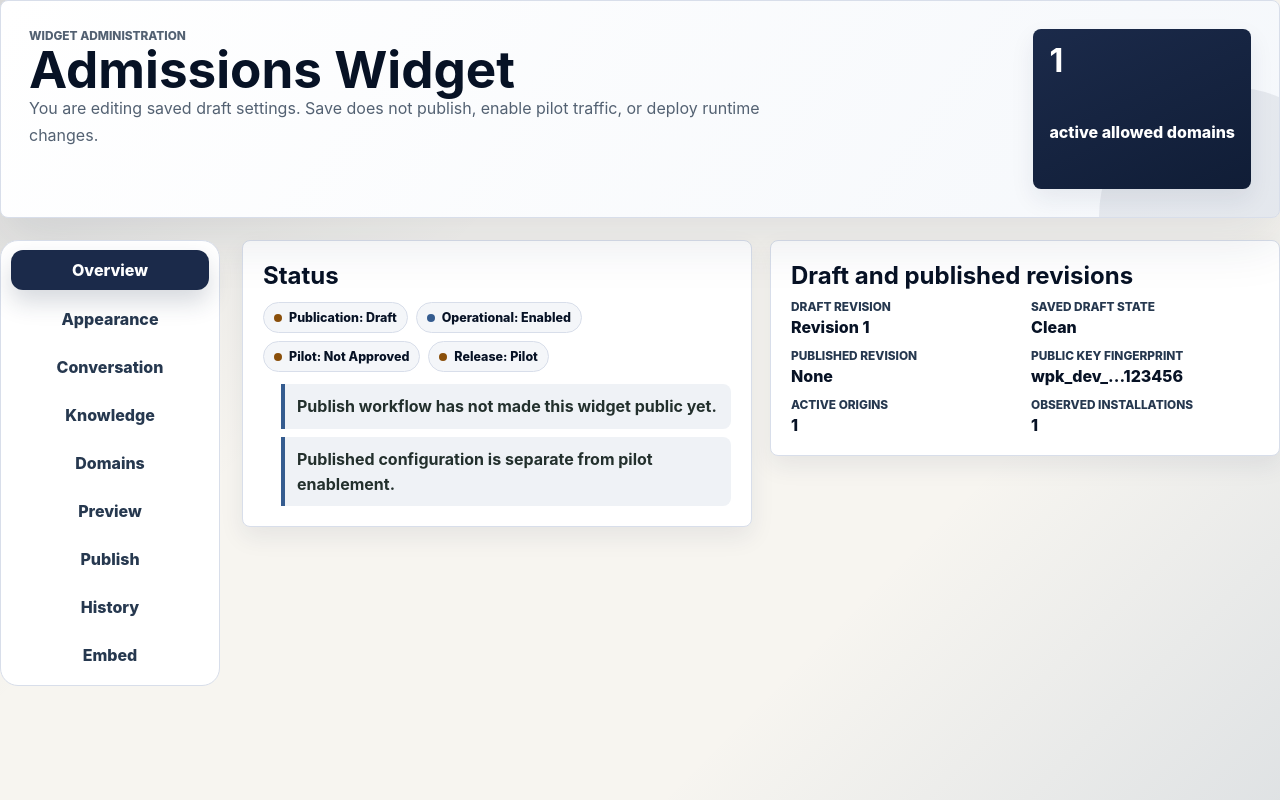
Test case: widget administration frontend › saves tenant-scoped knowledge selections and reports draft-only semantics
Click the tab "Knowledge": (110, 415) [11,395,209,435]
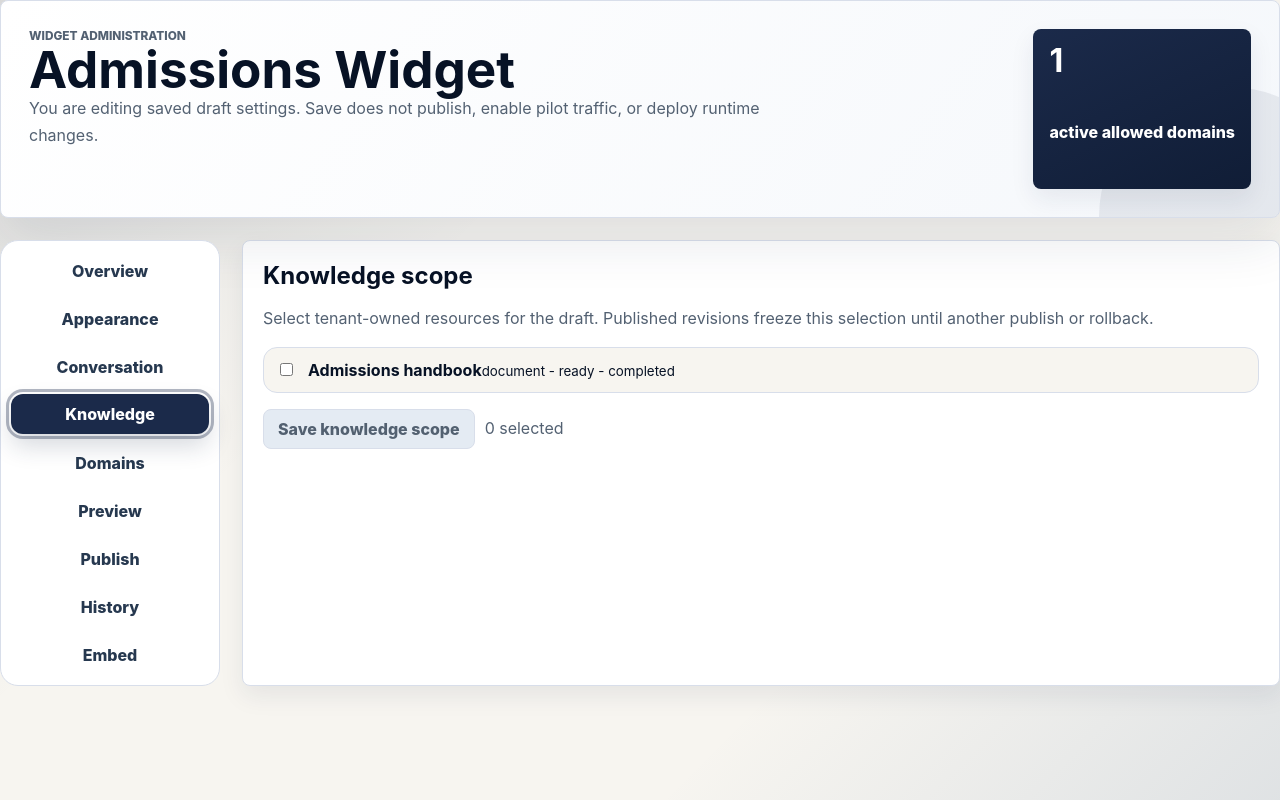
Click the checkbox labelled "Admissions handbook": (286, 369) [280,363,293,376]
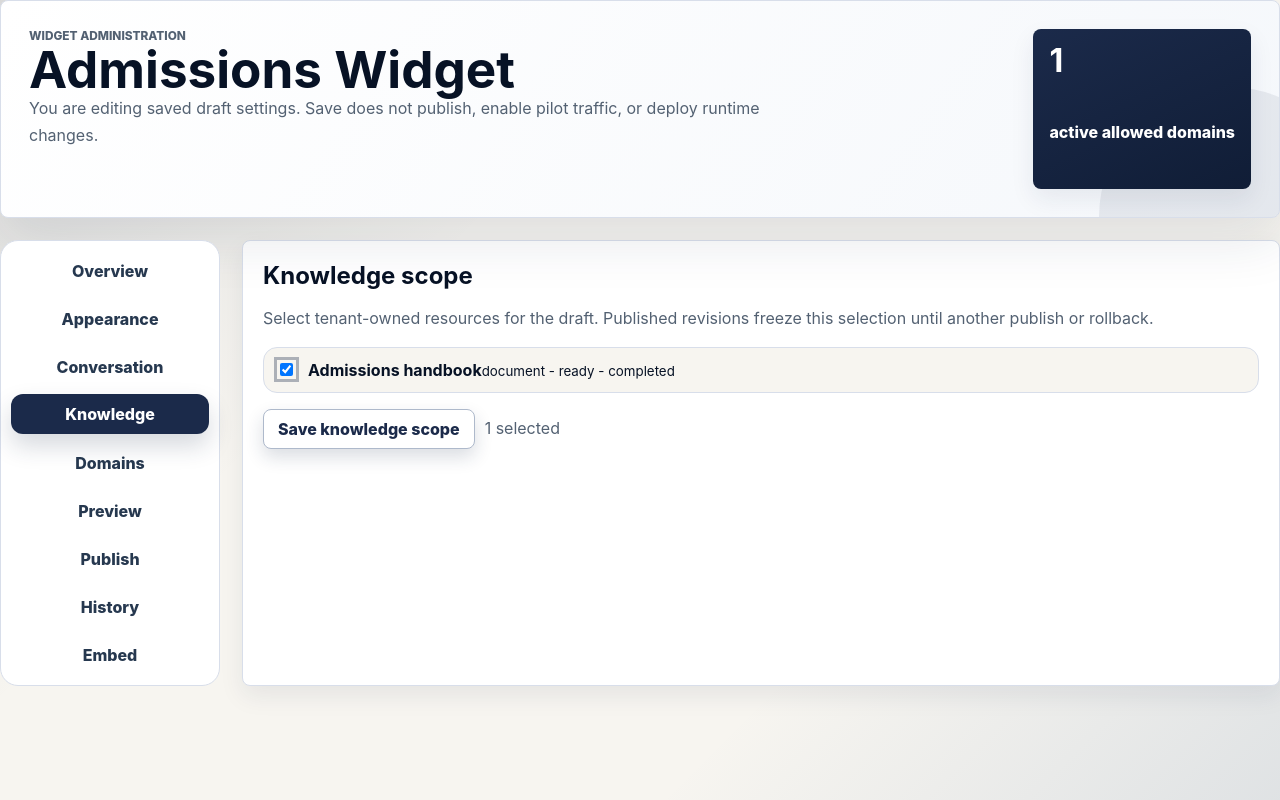
Click the button "Save knowledge scope": (369, 429) [263,409,475,449]
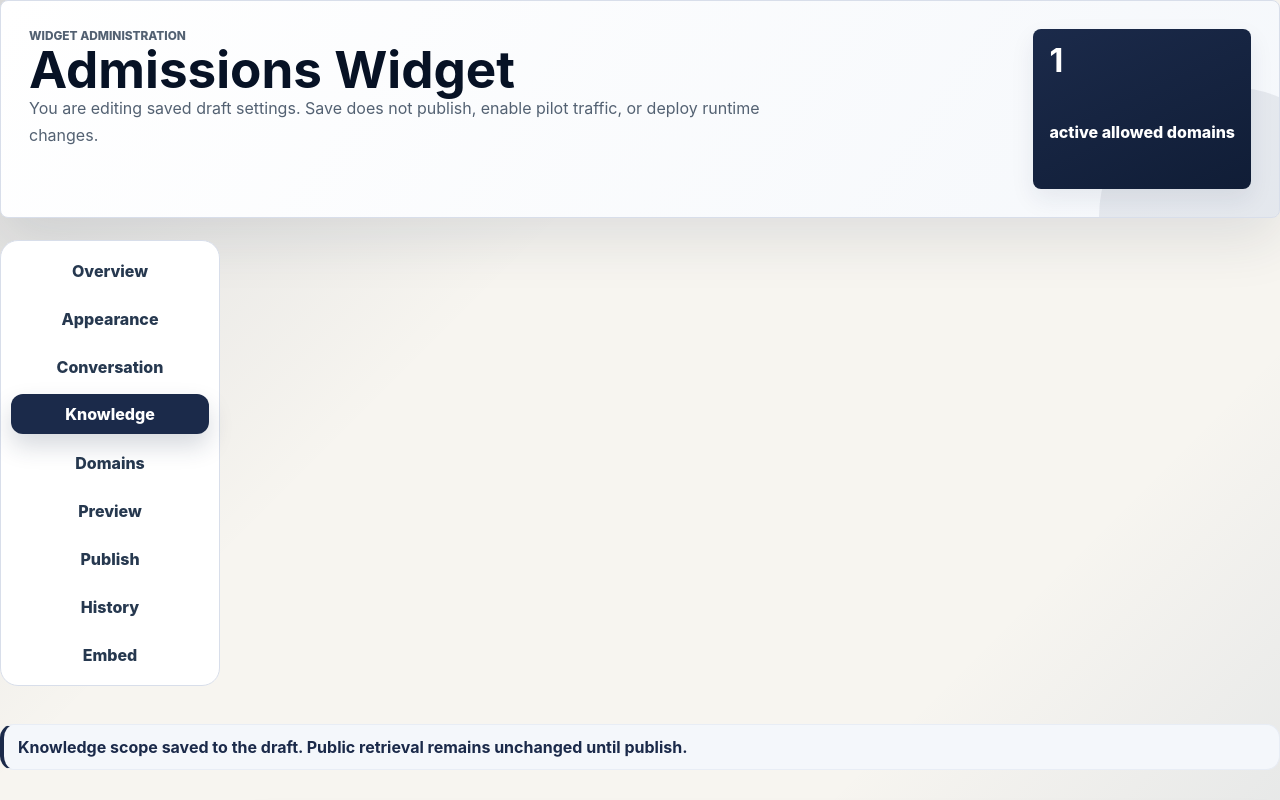
Result: the text "Knowledge scope saved to the draft. Public retrieval remains unchanged until publish." is shown at [18,737,688,757]
